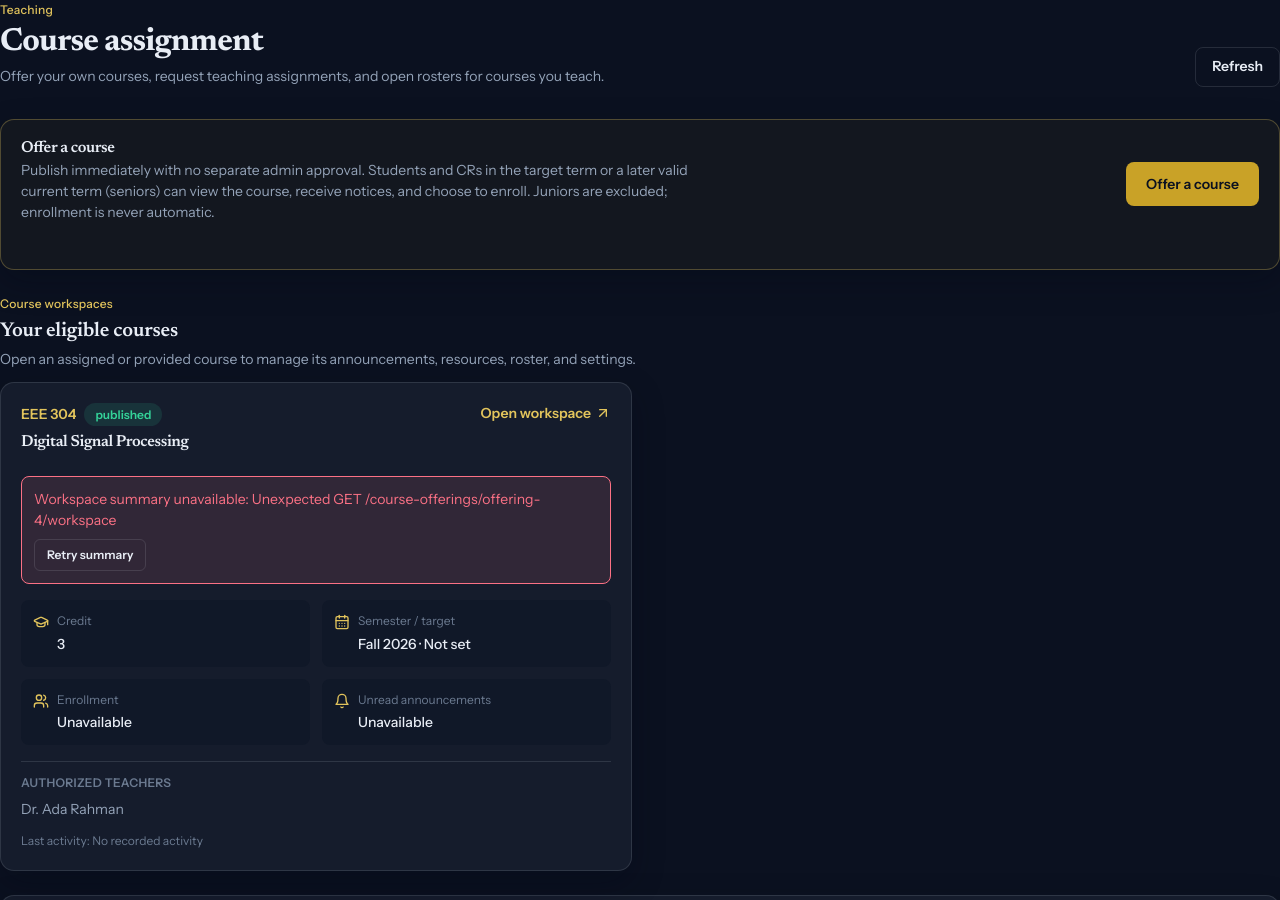
TeacherAssignmentPage › uses the selected active semester for eligibility guidance without offering inactive or unscoped semesters
This screenshot has width=1280, height=900.
Click the button "Offer a course".
click(1193, 184)  # box [1126,162,1259,206]
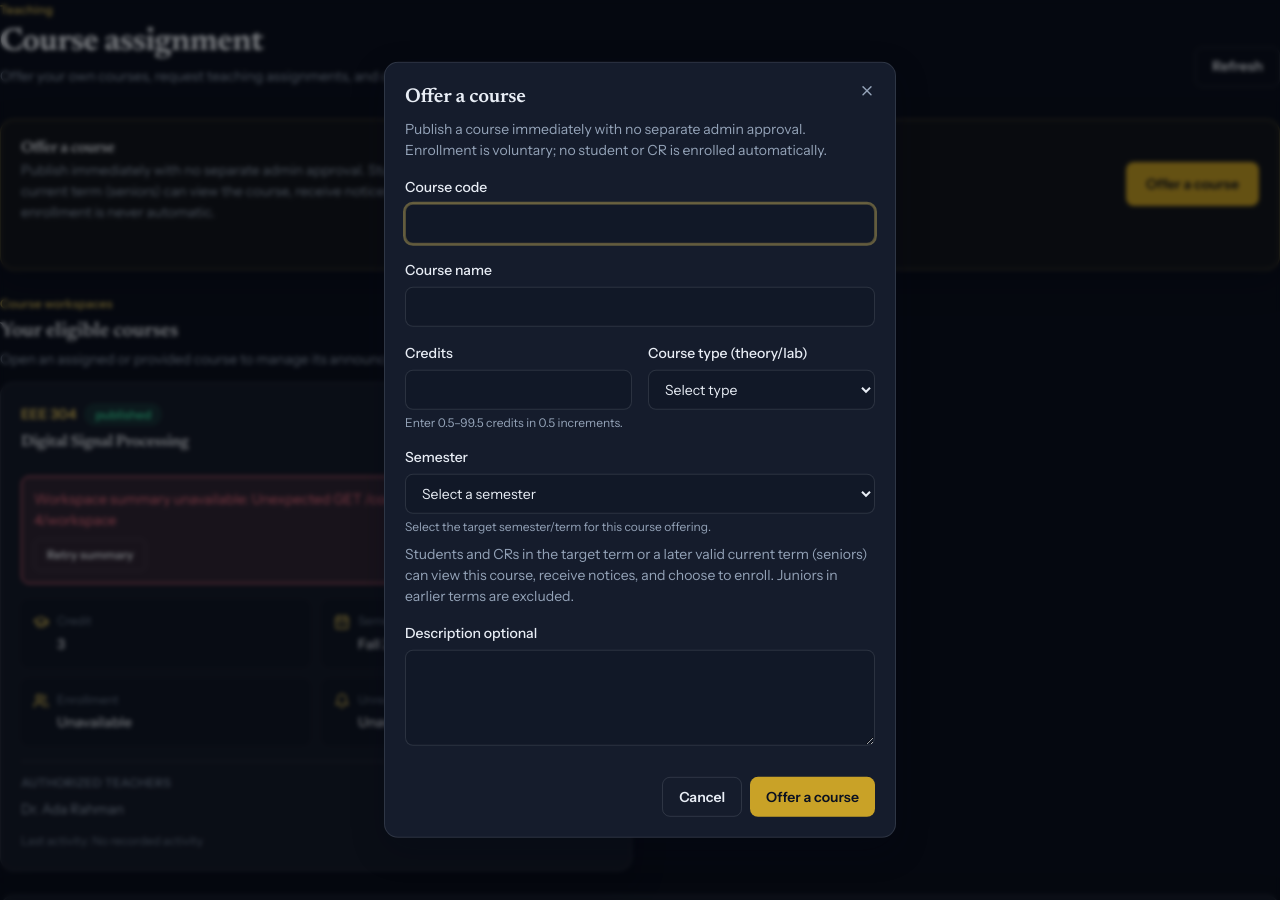
Select "Fall 2026 — 3-1" in the dropdown labelled "Semester" at (640, 494), box [405,474,875,514]
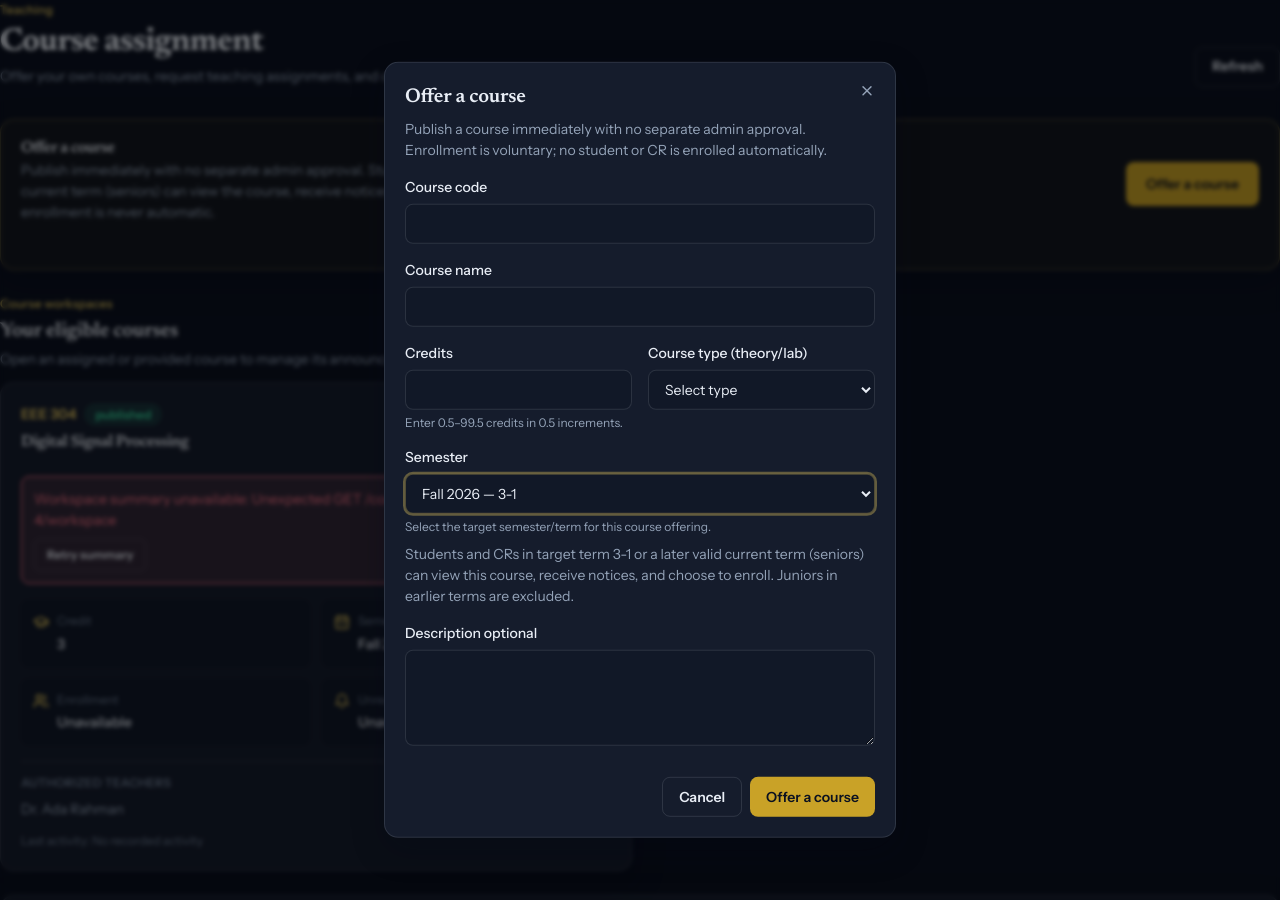
expect the text "Students and CRs in target term 3-1 or a later valid current term (seniors)" is shown: met, box [405,544,875,607]
Select "Senior semester — 4-1" in the dropdown labelled "Semester" at (640, 494), box [405,474,875,514]
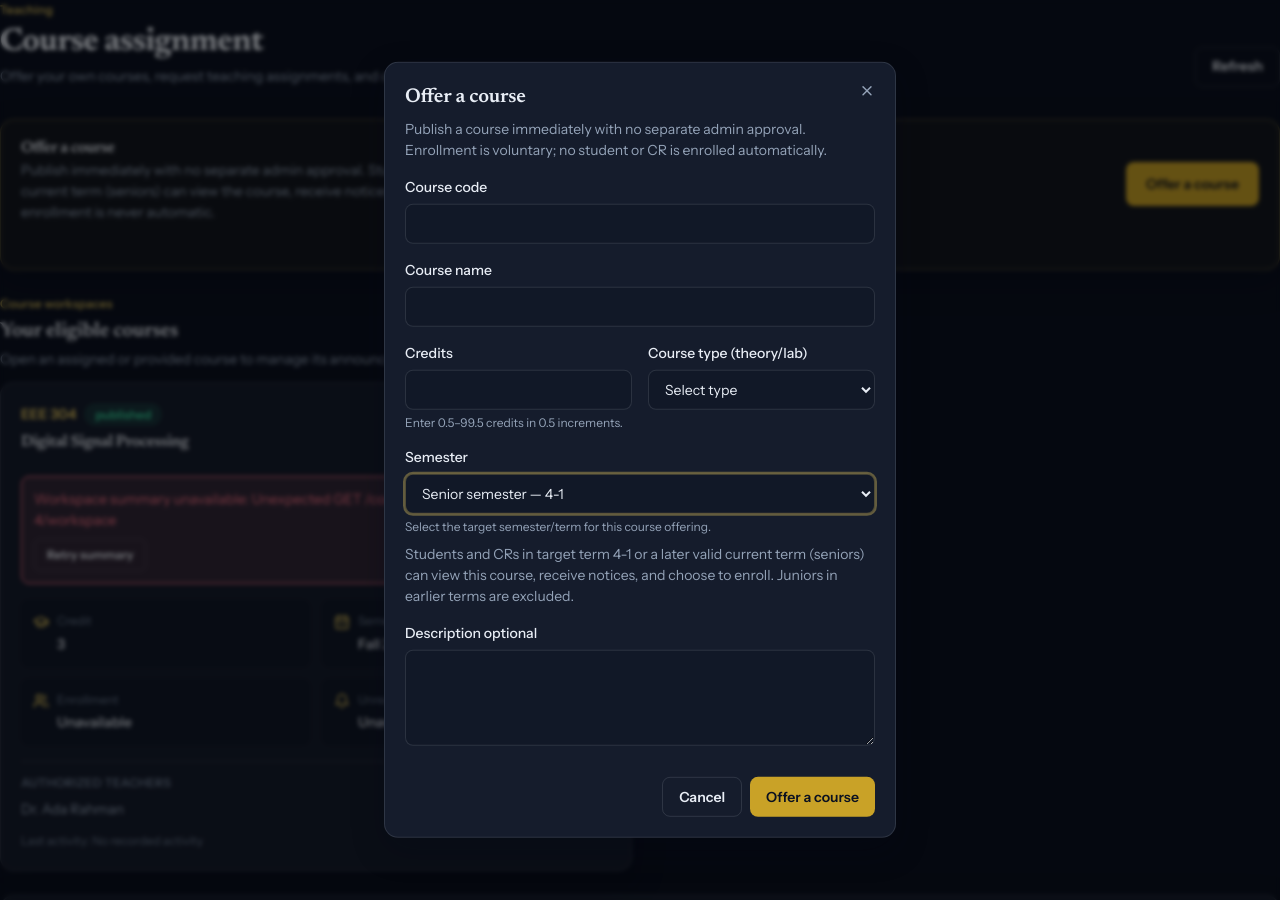
expect the text "Students and CRs in target term 4-1 or a later valid current term (seniors)" is shown: met, box [405,544,875,607]
expect the text "Students and CRs in target term 3-1" is gone: met
